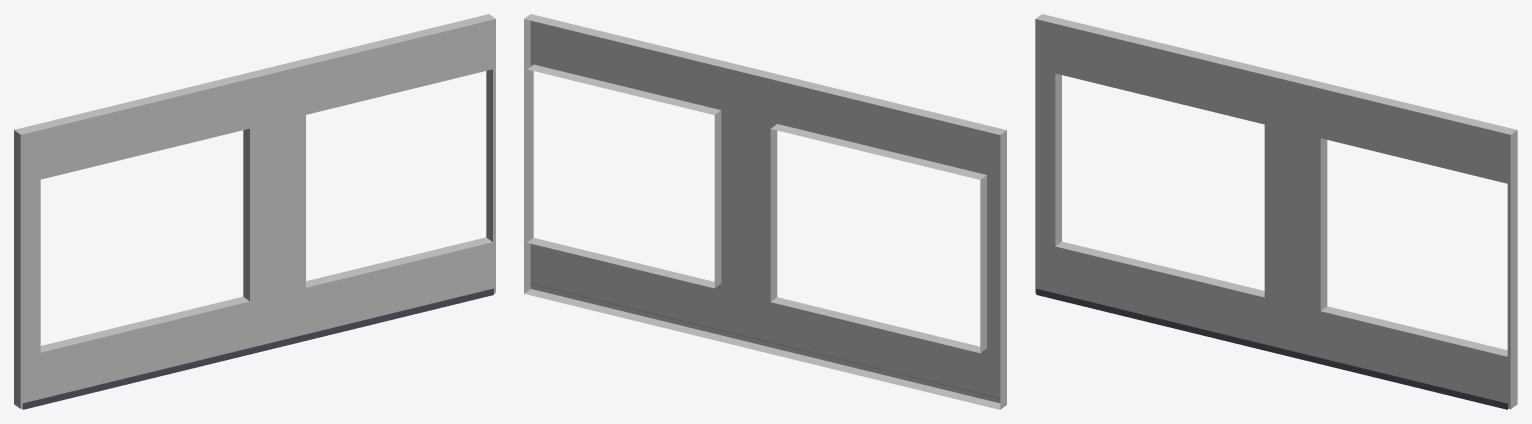
Rendered from ConcreteWall001.FBX.
3 views of the same model, side by side, from view 1: azimuth 30°, elevation 25°; view 2: azimuth 150°, elevation 25°; view 3: azimuth 330°, elevation 25° (orthographic).
Parts seen in each view (by area): view 1: ConcreteWall001; view 2: ConcreteWall001; view 3: ConcreteWall001.
Boxes of the visible parts, left/top/right/bottom form: ConcreteWall001: left=14, top=14, right=495, bottom=409; ConcreteWall001: left=524, top=14, right=1006, bottom=409; ConcreteWall001: left=1035, top=14, right=1517, bottom=409.
Bounding box in the file's own units: 24.61 × 13.61 × 0.6509.
